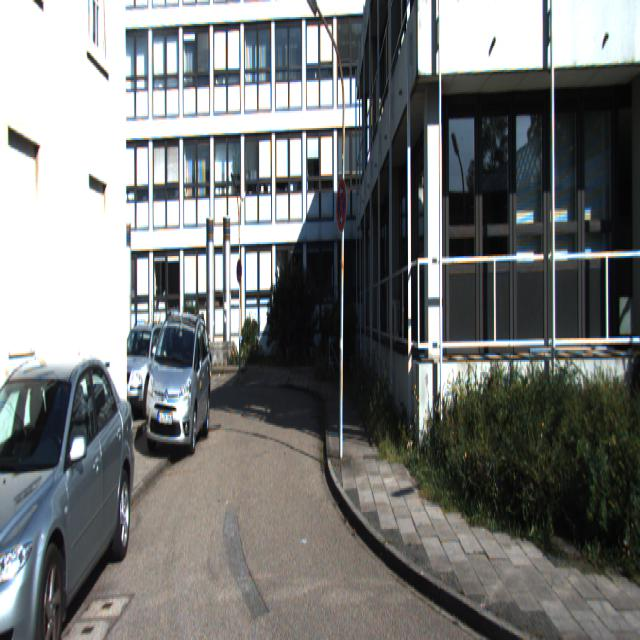Car: (0, 342, 140, 638), (138, 309, 212, 457)
